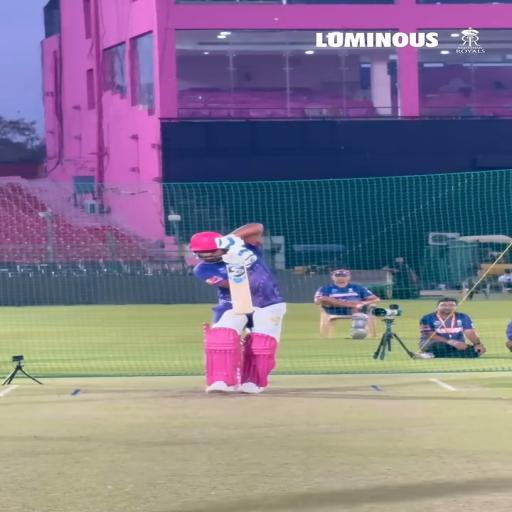Cricket bat: (228, 264, 253, 314)
